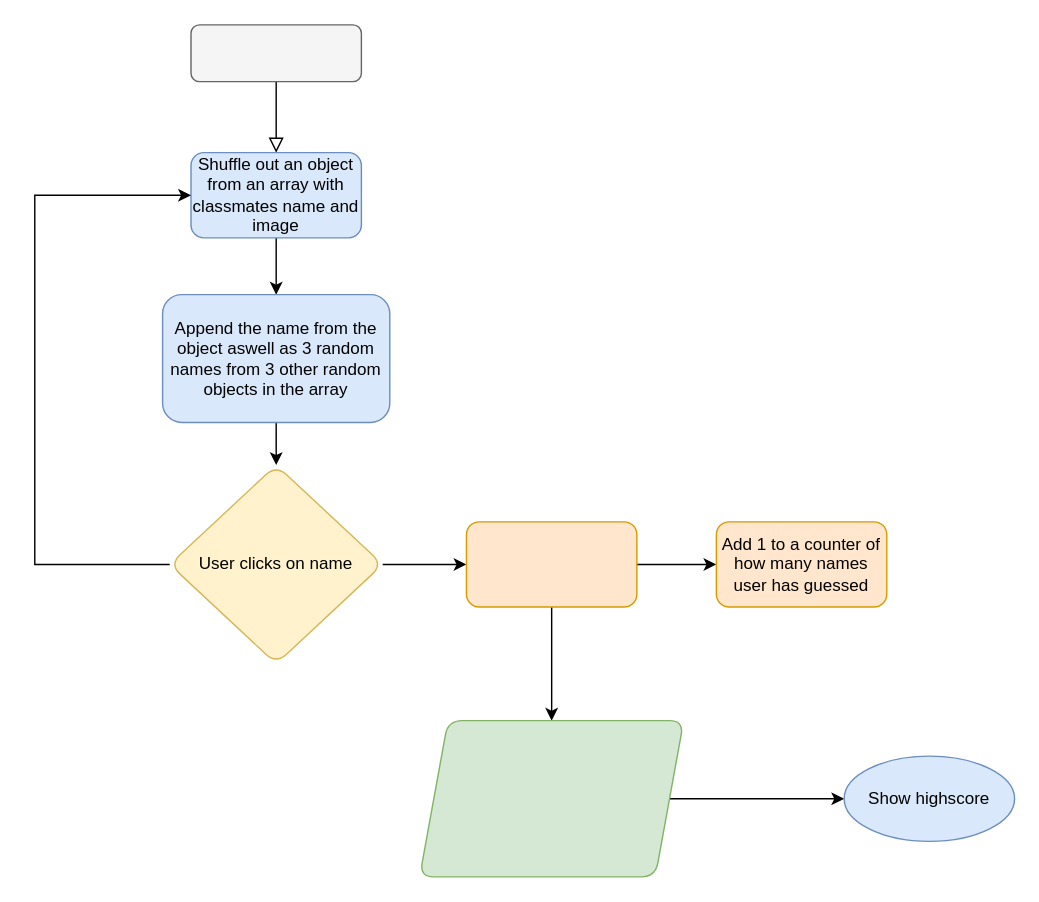
The diagram is 1039 pixels wide and 902 high, and some of its shapes have lost their labels. The shapes that lost their labels are listed below. From the top down, each one's centre as x and y in pixels, then its label:
[275,52]: User enters site
[551,563]: Save answer as correct or incorrect
[551,798]: Save if it was incorrect or correct and show results after 10 guesses
